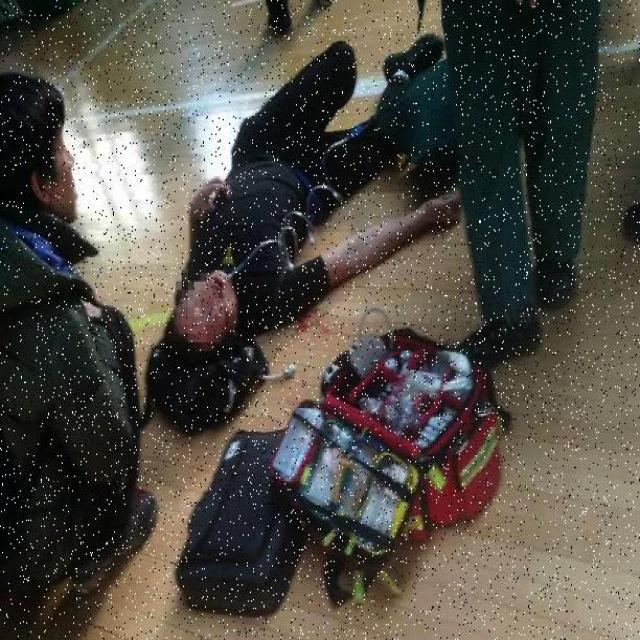fall: (150, 40, 428, 398)
